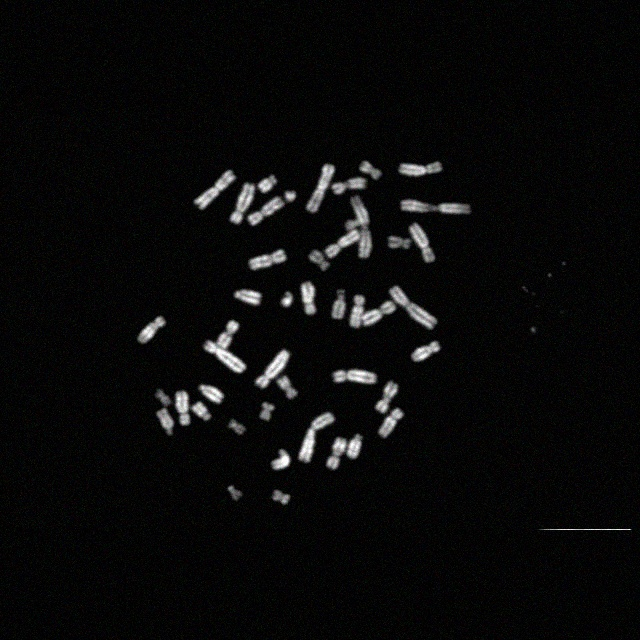chromosome: (389, 286, 437, 328), (298, 412, 334, 462), (194, 170, 236, 210), (307, 164, 335, 212), (204, 341, 246, 373), (256, 349, 290, 388), (350, 195, 370, 257), (248, 197, 284, 226), (409, 223, 435, 263), (230, 182, 254, 224), (326, 230, 360, 258), (402, 200, 471, 212), (362, 301, 396, 325), (250, 248, 286, 270), (137, 316, 165, 344), (378, 408, 404, 438), (375, 381, 397, 413), (217, 320, 239, 350), (333, 369, 377, 383), (412, 341, 441, 362), (328, 438, 347, 470), (399, 162, 441, 176), (332, 178, 366, 194), (156, 408, 174, 436), (277, 375, 297, 399), (199, 384, 223, 404), (176, 391, 190, 425), (350, 296, 364, 328), (301, 282, 315, 314), (309, 250, 329, 270), (359, 161, 381, 179), (332, 291, 346, 319), (346, 434, 362, 458), (272, 448, 290, 469), (233, 290, 260, 304), (192, 402, 212, 420), (258, 175, 276, 192), (388, 236, 410, 248), (272, 490, 290, 504), (228, 420, 246, 434), (260, 403, 274, 421), (156, 389, 170, 406), (228, 485, 242, 501), (346, 219, 368, 229), (282, 292, 292, 306), (285, 191, 295, 201)
